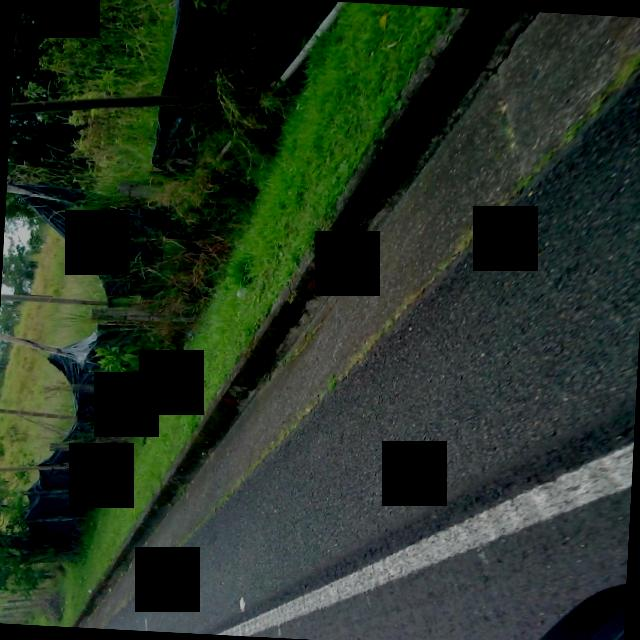DITCH: (69, 0, 640, 640), (117, 0, 640, 640)
